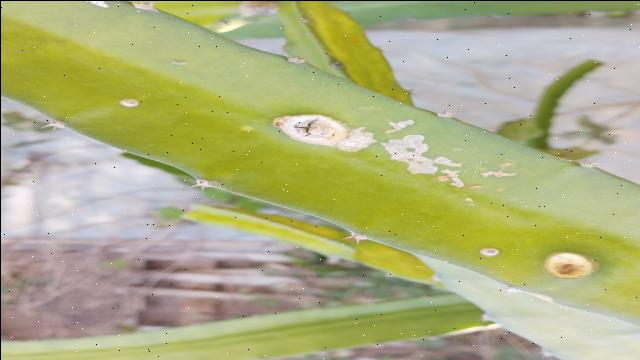stemcanker: (541, 247, 603, 288), (475, 244, 504, 264), (116, 95, 143, 111)
